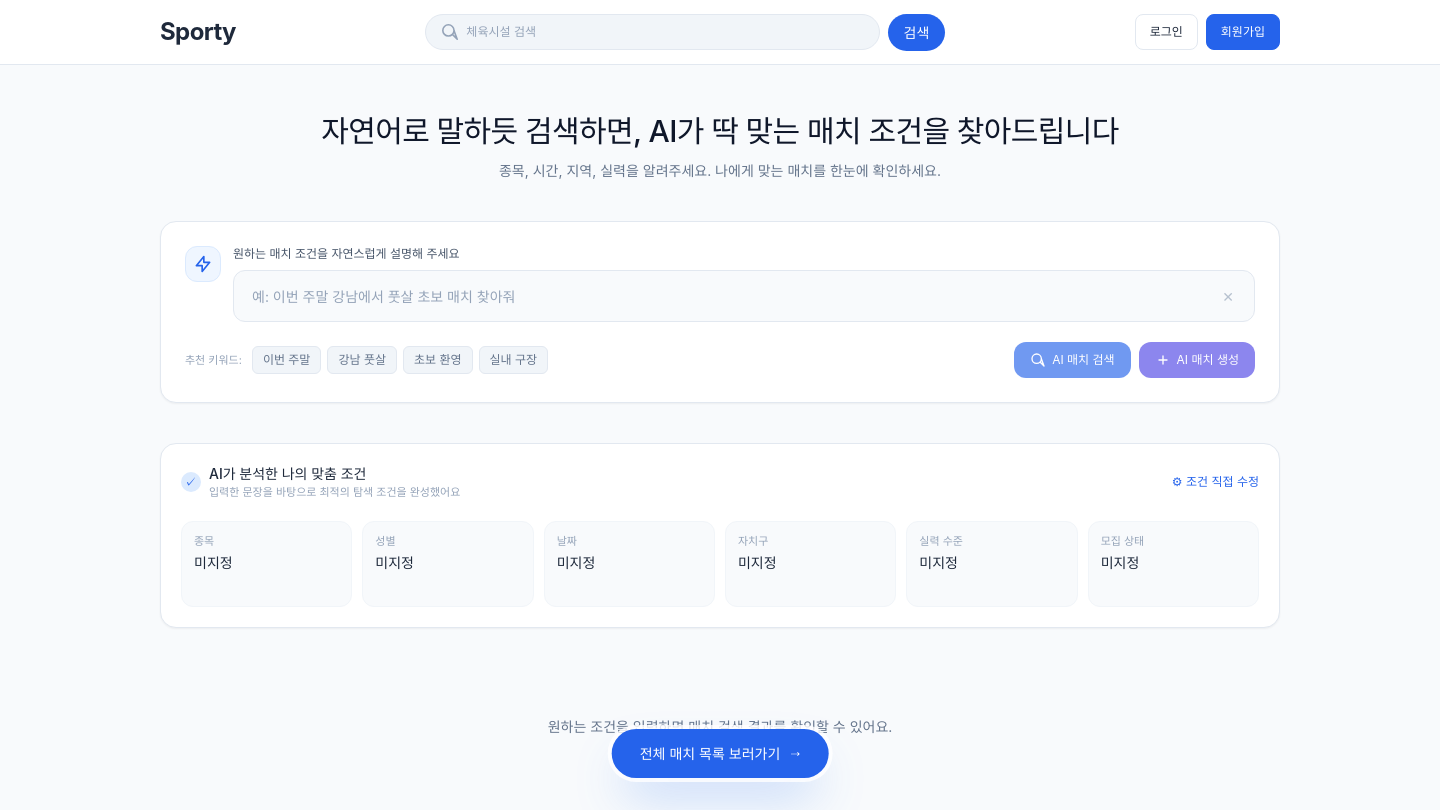
Test: [AI-02] 재검색에 실패하면 폼 안에 오류를 보여주고 폼을 유지한다
The width and height of the screenshot is (1440, 810).
Type "송파구 초보 풋살" into the field labelled "원하는 매치 조건을 자연스럽게 설명해 주세요" at (732, 296), box [250,272,1214,320]
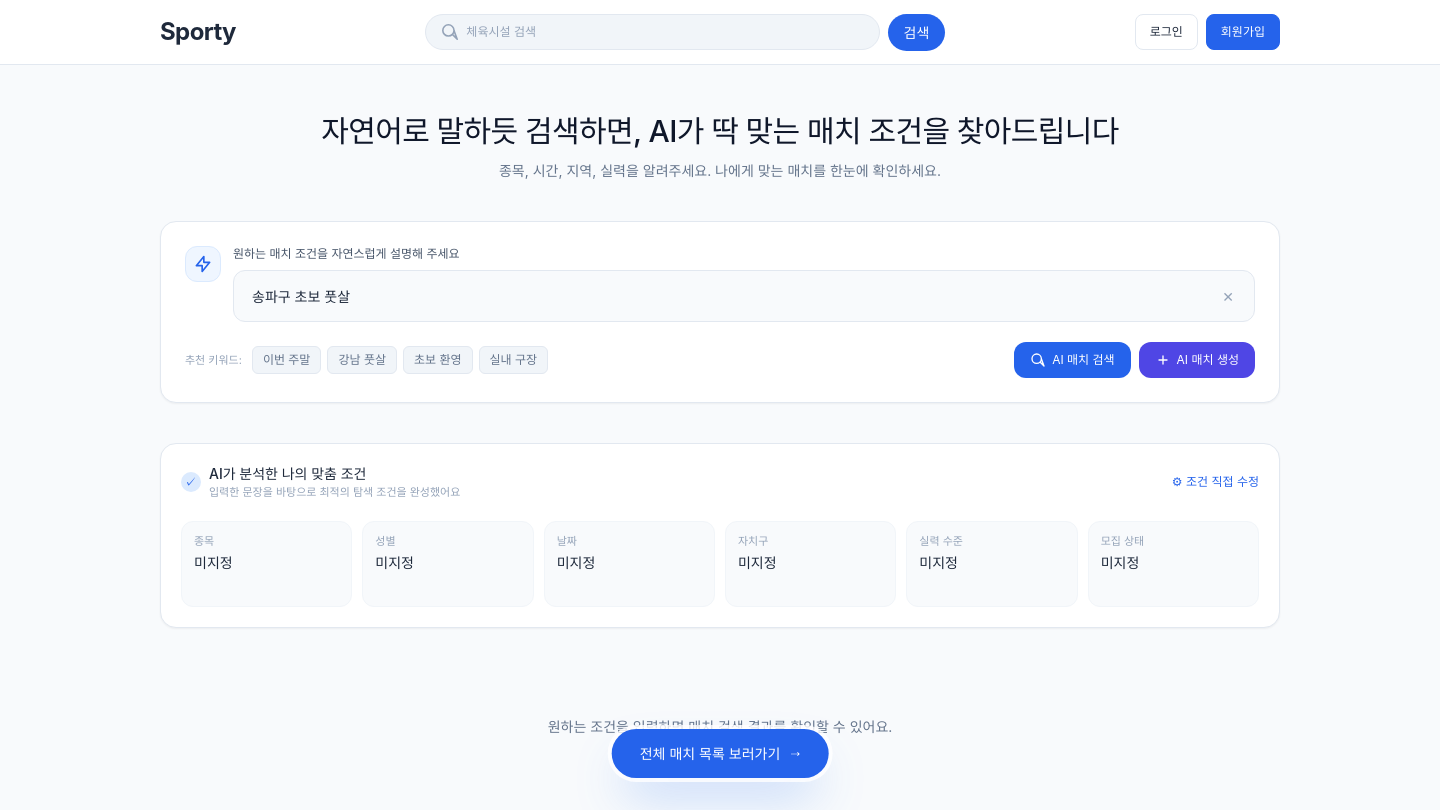
Click the button "AI 매치 검색" at (1072, 360), box [1014,342,1131,378]
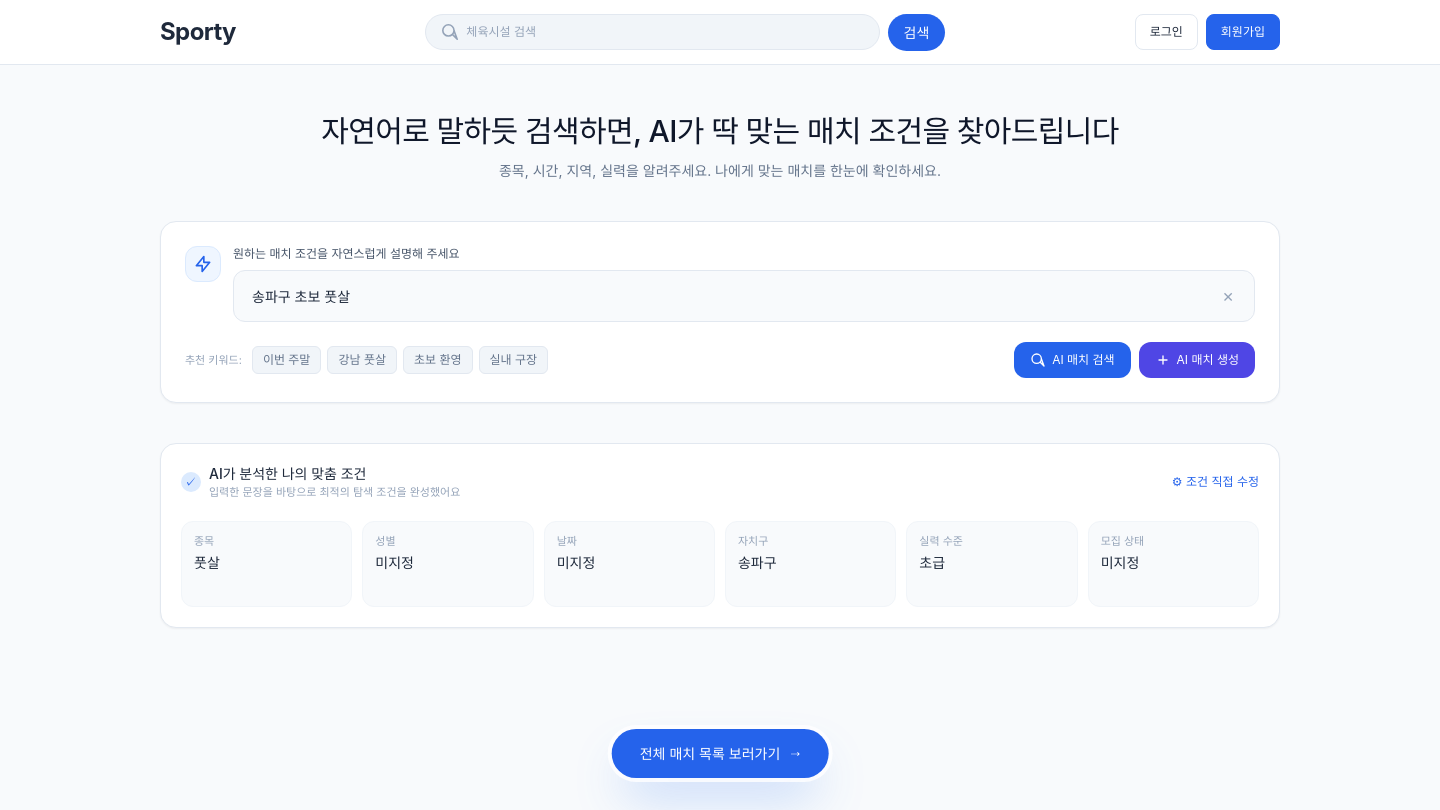
Click the button "⚙ 조건 직접 수정" at (1215, 482), box [1172,473,1259,491]
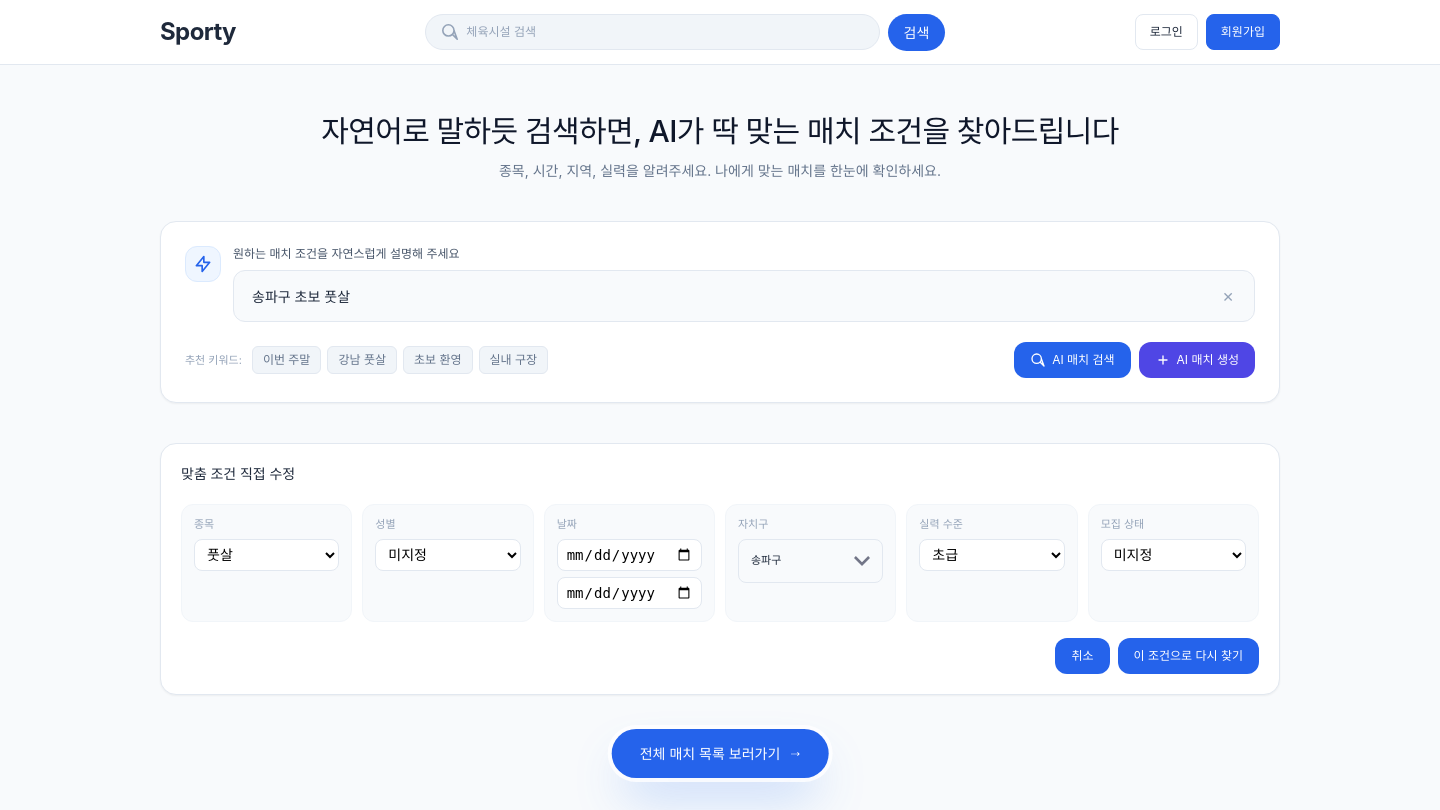
Click the button "이 조건으로 다시 찾기" at (1188, 656), box [1118,638,1259,674]
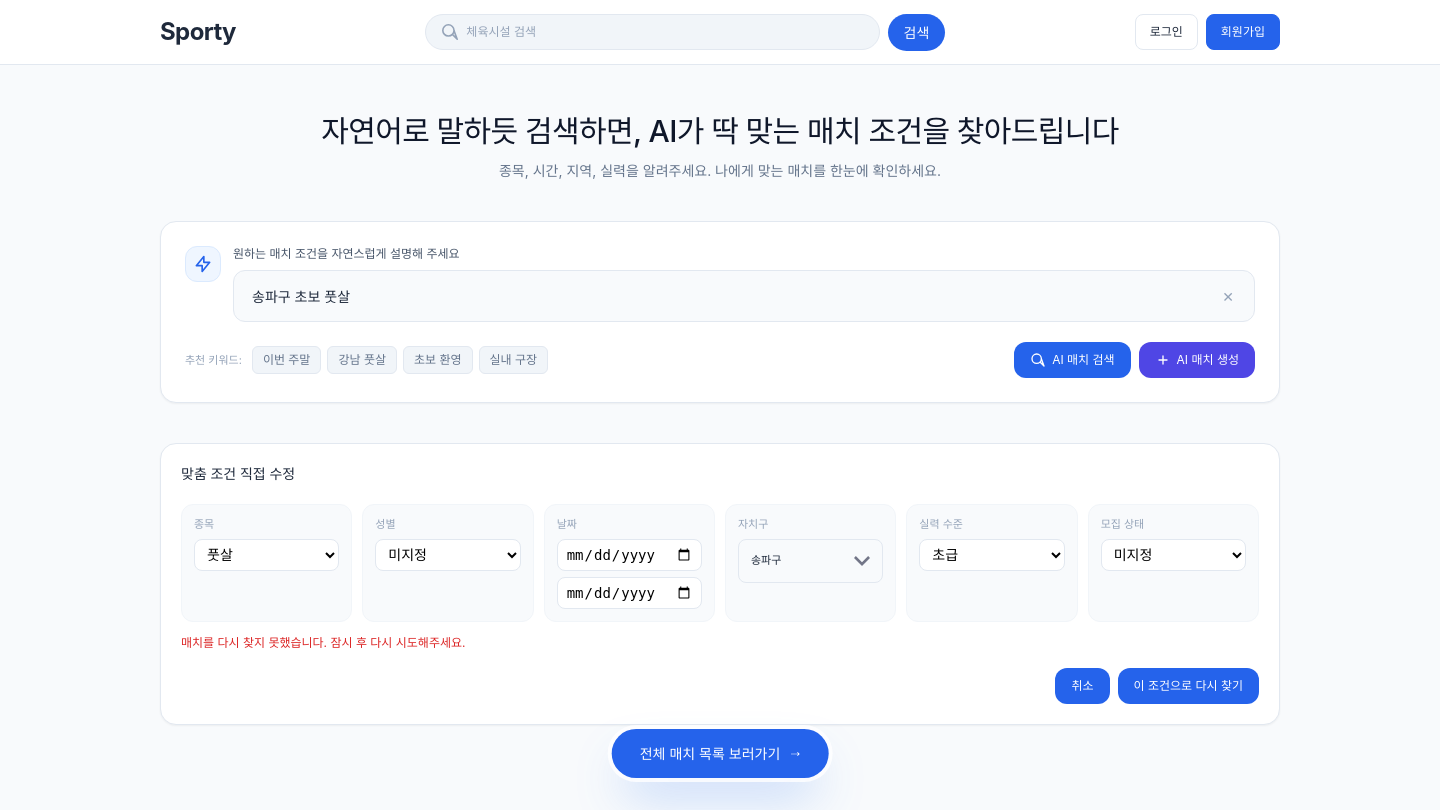
Expected: the dropdown labelled "종목" shows "풋살", [194,538,339,570]
Expected: the message shows "매치를 다시 찾지 못했습니다.", [181,634,466,650]
